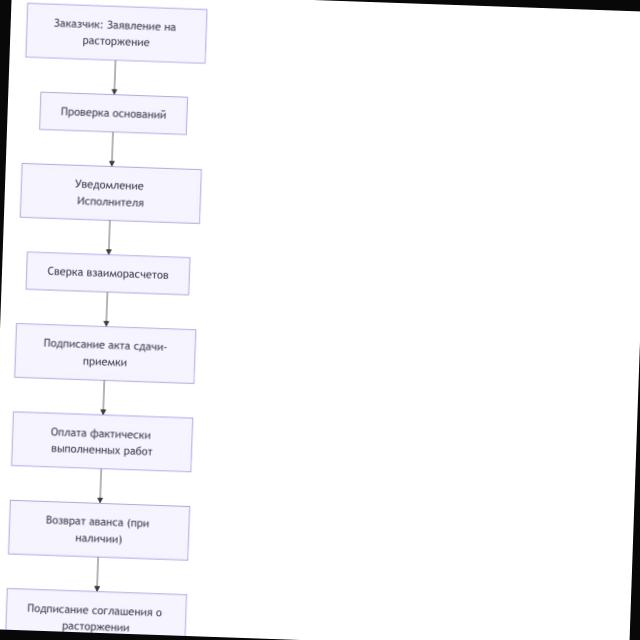arrow: (107, 221, 111, 254), (101, 381, 105, 414), (110, 133, 114, 166), (112, 61, 116, 94), (95, 558, 99, 591), (98, 470, 102, 502), (106, 293, 108, 317)
rectangle: (8, 500, 190, 560), (12, 412, 193, 472), (26, 3, 207, 62), (21, 164, 202, 223), (15, 324, 196, 383), (26, 252, 190, 295), (39, 93, 187, 135)
